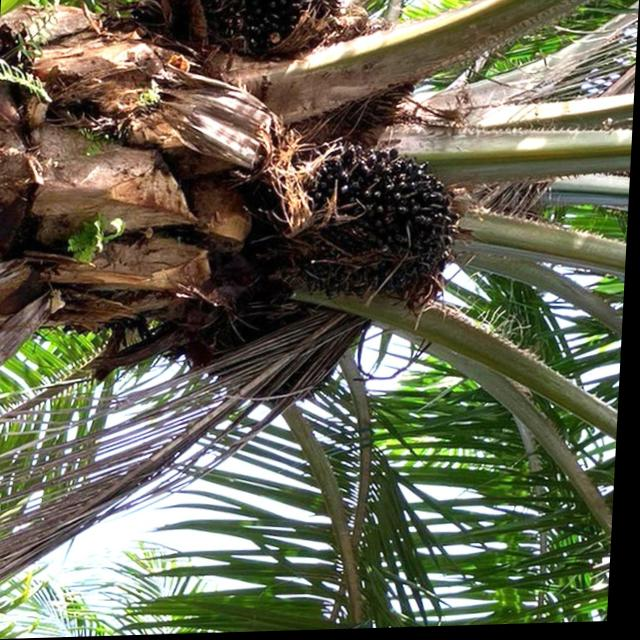unripe: (268, 138, 475, 321)
